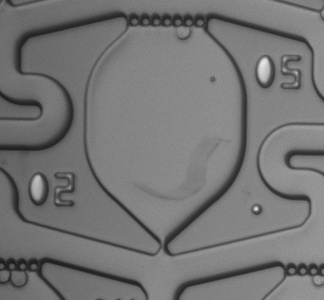AptNum: (247, 50, 309, 95)
Marker: (241, 196, 271, 223)
StNum: (21, 165, 83, 215)
Trap: (141, 246, 185, 288)
